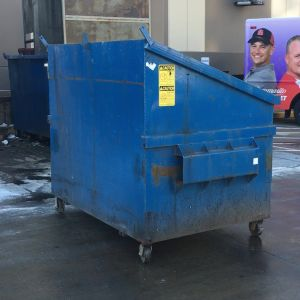Dumpster: (36, 26, 286, 265)
Person: (245, 27, 280, 90)
